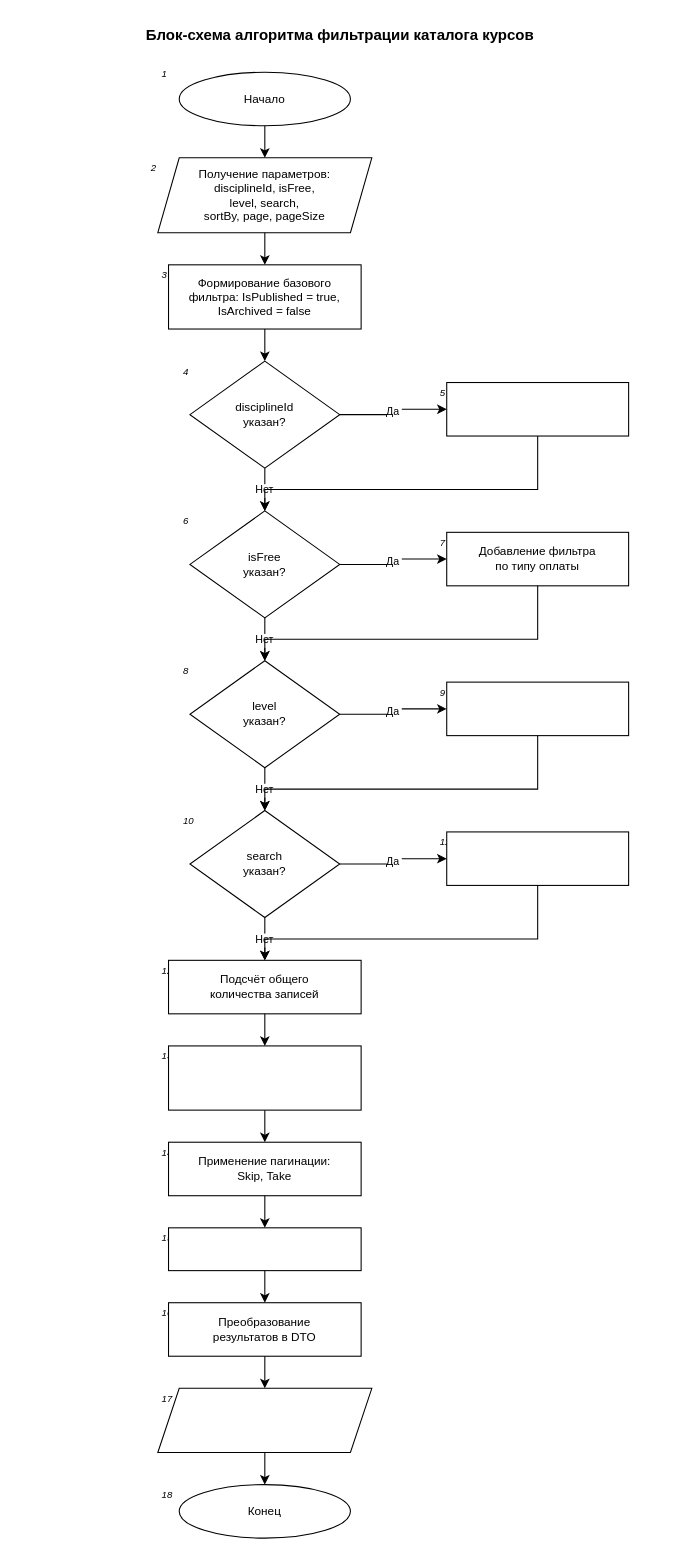
The diagram is 678 pixels wide and 1557 high, and some of its shapes have lost their labels. Here are the shapes that lost their labels. From the top down, the centre of each, then its label:
pixel 537 408: Добавление фильтра по дисциплине
pixel 537 708: Добавление фильтра по уровню сложности
pixel 537 858: Добавление поиска по названию и описанию
pixel 264 1077: Применение сортировки (по цене / популярности / дате)
pixel 264 1249: Выполнение запроса к БД
pixel 264 1420: Возврат PagedResult: items, totalCount, page, totalPages
